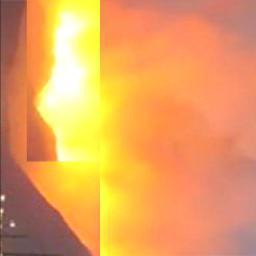Large fire: (100, 1, 256, 256), (27, 2, 100, 199)
